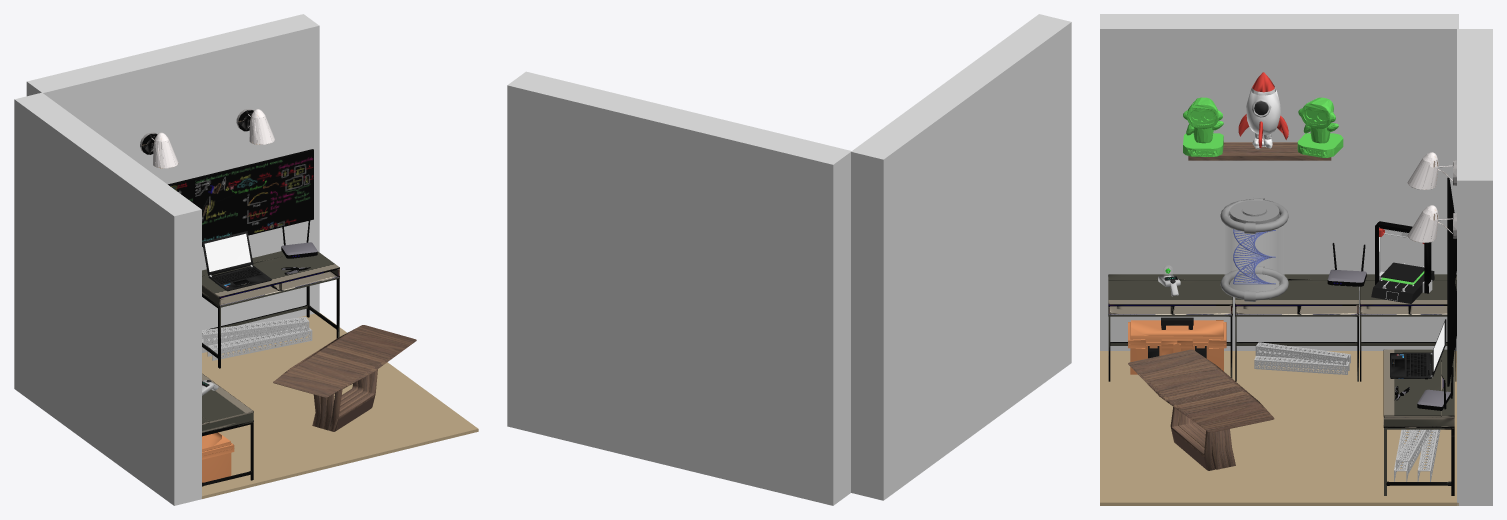
File: singleScene_sez6.glb
The picture shows the model from 3 angles, left to right: view 1: azimuth 30°, elevation 25°; view 2: azimuth 150°, elevation 25°; view 3: azimuth 270°, elevation 25°; orthographic projection. The views are drawn at different scales.
Parts seen in each view (by area): view 1: Cube.008, Cube.013, Cube.040, Screen.001, Box006, desk.012, desk.010, Box001, monitor.002, imagetostl_mesh.010, imagetostl_mesh.011, Tool_box1_Tool_box_polymer_0.003 (+4 smaller); view 2: Cube.013, Cube.008; view 3: Cube.008, Cube.040, Cube.013, Box006, desk.010, desk.012, desk.011, Object_2, Tool_box1_Tool_box_polymer_0.003, desk.002, Box001, Cylinder.006 (+21 smaller).
Part boxes in pixels (x1=…): Cube.008: x1=14, y1=92, x2=201, y2=505; Cube.013: x1=26, y1=14, x2=319, y2=335; Cube.040: x1=201, y1=312, x2=478, y2=498; Screen.001: x1=195, y1=150, x2=313, y2=245; Box006: x1=273, y1=325, x2=416, y2=397; desk.012: x1=202, y1=251, x2=339, y2=368; desk.010: x1=202, y1=373, x2=253, y2=486; Box001: x1=312, y1=369, x2=377, y2=431; monitor.002: x1=202, y1=231, x2=253, y2=276; imagetostl_mesh.010: x1=207, y1=326, x2=312, y2=360; imagetostl_mesh.011: x1=202, y1=317, x2=309, y2=345; Tool_box1_Tool_box_polymer_0.003: x1=202, y1=432, x2=234, y2=482; Cube.013: x1=507, y1=71, x2=851, y2=505; Cube.008: x1=851, y1=14, x2=1071, y2=500; Cube.008: x1=1100, y1=14, x2=1458, y2=350; Cube.040: x1=1100, y1=351, x2=1458, y2=505; Cube.013: x1=1457, y1=29, x2=1492, y2=505; Box006: x1=1128, y1=349, x2=1274, y2=432; desk.010: x1=1108, y1=274, x2=1232, y2=381; desk.012: x1=1383, y1=349, x2=1454, y2=495; desk.011: x1=1235, y1=274, x2=1359, y2=381; Object_2: x1=1224, y1=216, x2=1284, y2=292; Tool_box1_Tool_box_polymer_0.003: x1=1128, y1=320, x2=1226, y2=374; desk.002: x1=1360, y1=274, x2=1456, y2=381; Box001: x1=1170, y1=407, x2=1235, y2=470; Cylinder.006: x1=1238, y1=72, x2=1288, y2=149.
Bounding box in the file's own units: 2.2 × 2.01 × 2.19.
43 materials, 12 textured.
